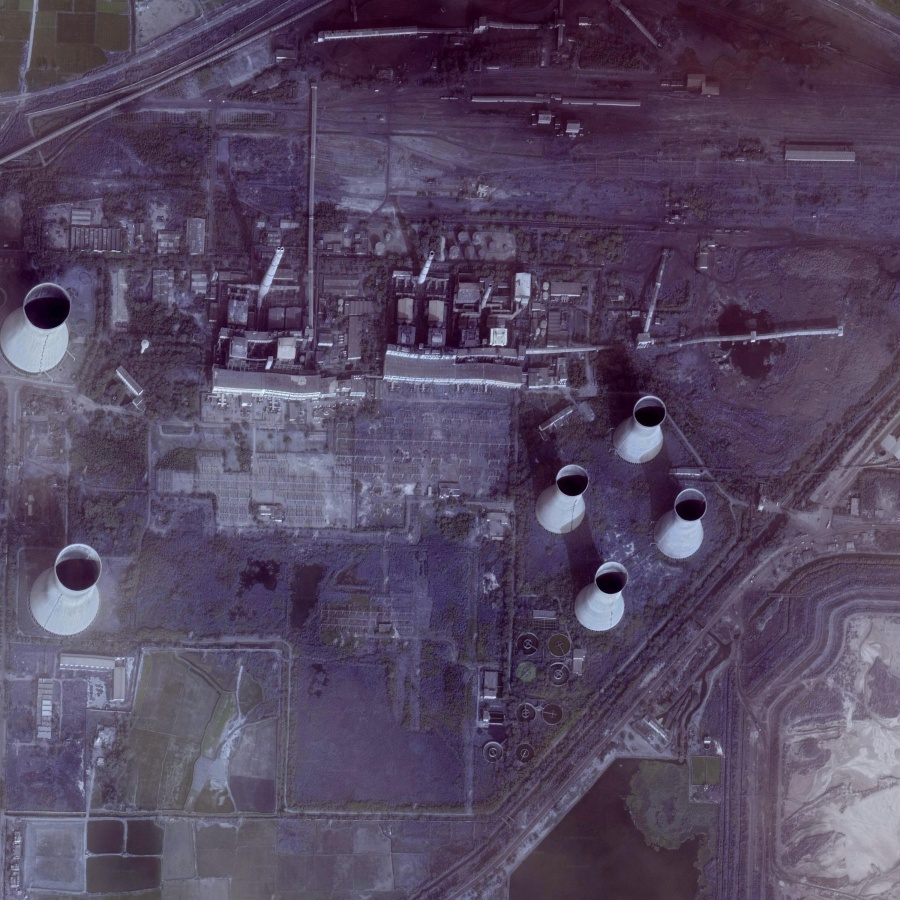PowerPlant: (212, 196, 706, 633), (10, 531, 254, 805)
